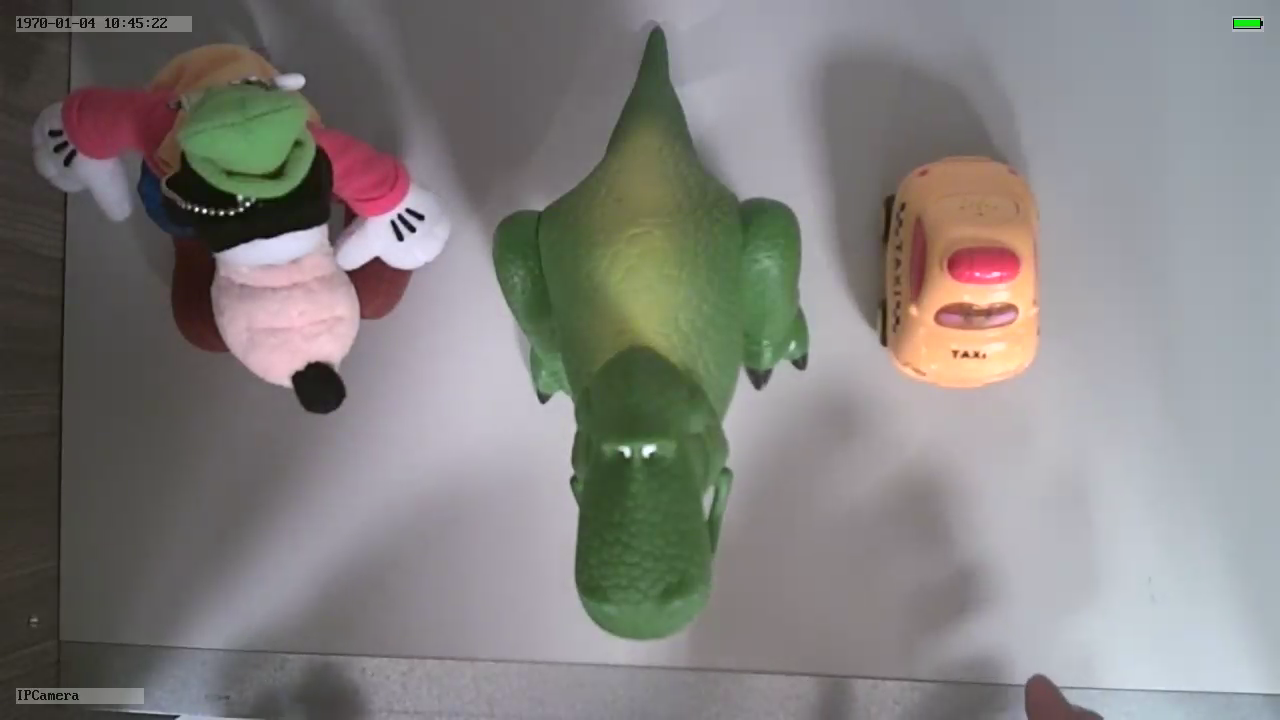goofy: (31, 42, 450, 413)
